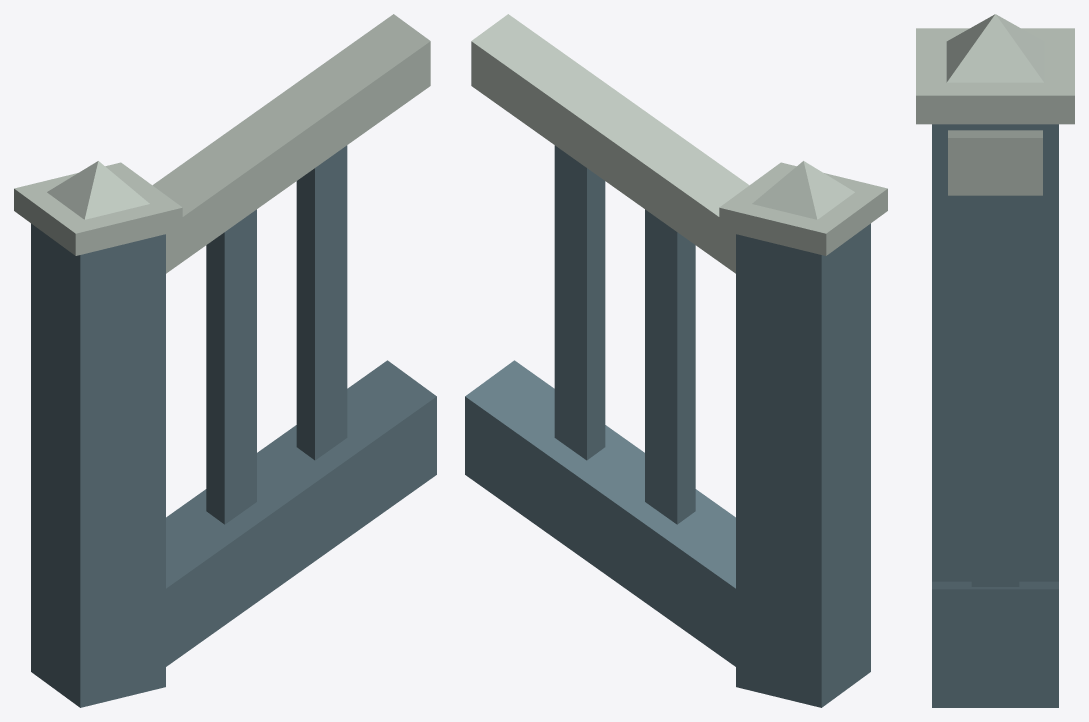
The model's file is rail_stair_24deg_1m.glb.
The picture shows the model from 3 angles, left to right: view 1: azimuth 30°, elevation 25°; view 2: azimuth 150°, elevation 25°; view 3: azimuth 270°, elevation 25°; orthographic projection. The views are drawn at different scales.
Visible parts, largest first — view 1: RailStair24Deg1M / Stone, RailStair24Deg1M / Coping; view 2: RailStair24Deg1M / Stone, RailStair24Deg1M / Coping; view 3: RailStair24Deg1M / Stone, RailStair24Deg1M / Coping.
Boxes of the visible parts, x1,y1,x2,y2 form: RailStair24Deg1M / Stone: (31,145,436,707); RailStair24Deg1M / Coping: (14,14,430,273); RailStair24Deg1M / Stone: (465,145,870,707); RailStair24Deg1M / Coping: (471,14,887,273); RailStair24Deg1M / Stone: (932,124,1058,707); RailStair24Deg1M / Coping: (916,14,1074,195).
Size of the model in its own units: 1.03 by 1.54 by 0.3.
